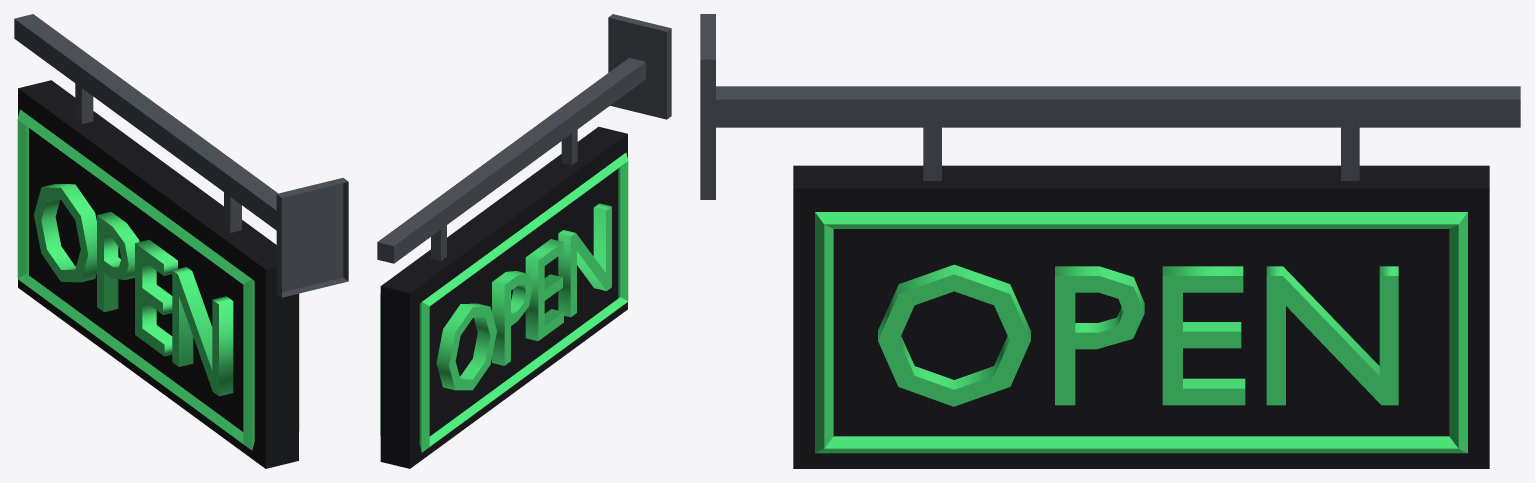
File: sign_open.glb
The picture shows the model from 3 angles, left to right: view 1: azimuth 30°, elevation 25°; view 2: azimuth 150°, elevation 25°; view 3: azimuth 270°, elevation 25°; orthographic projection. The views are drawn at different scales.
Visible parts, largest first — view 1: sign_open__mesh; view 2: sign_open__mesh; view 3: sign_open__mesh.
Part boxes in pixels (left/top/right/bottom): sign_open__mesh: left=14, top=14, right=348, bottom=468; sign_open__mesh: left=377, top=14, right=671, bottom=468; sign_open__mesh: left=700, top=14, right=1520, bottom=468.
Size of the model in its own units: 0.14 by 0.6 by 1.06.
1 material, 1 textured.
